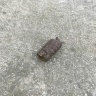Dog: (37, 37, 63, 62)
